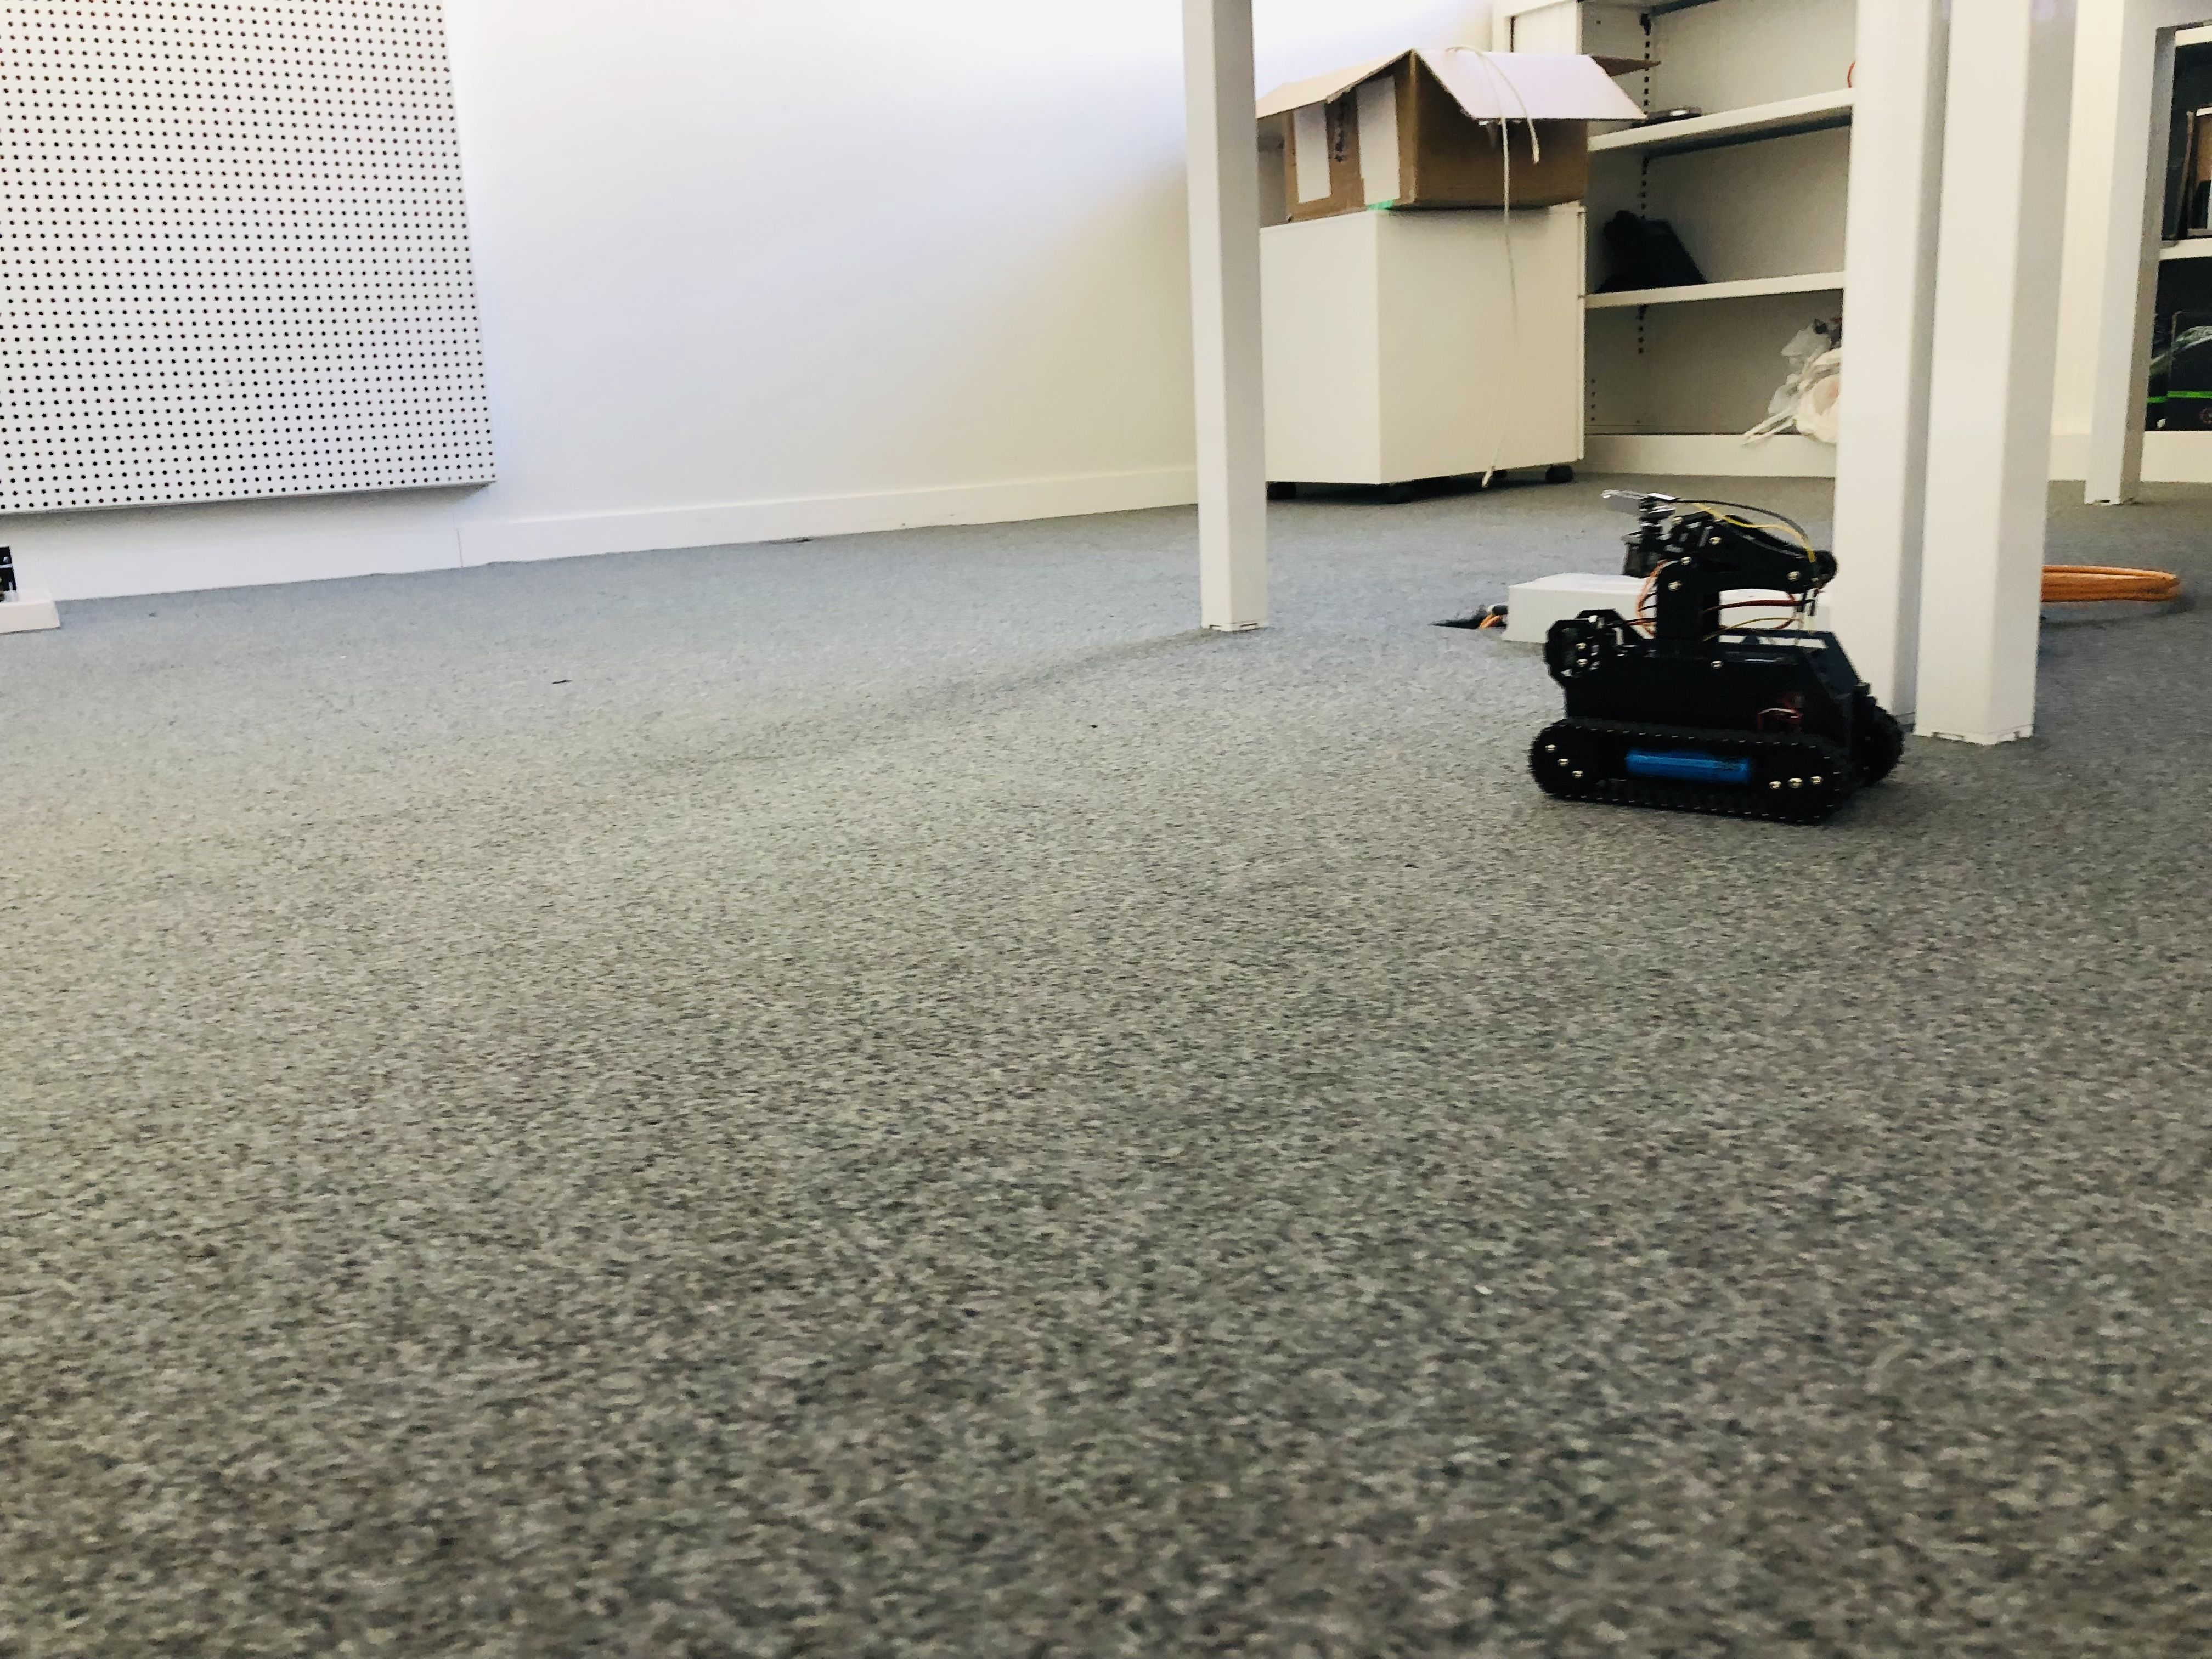rasptank: (1505, 483, 1919, 828)
